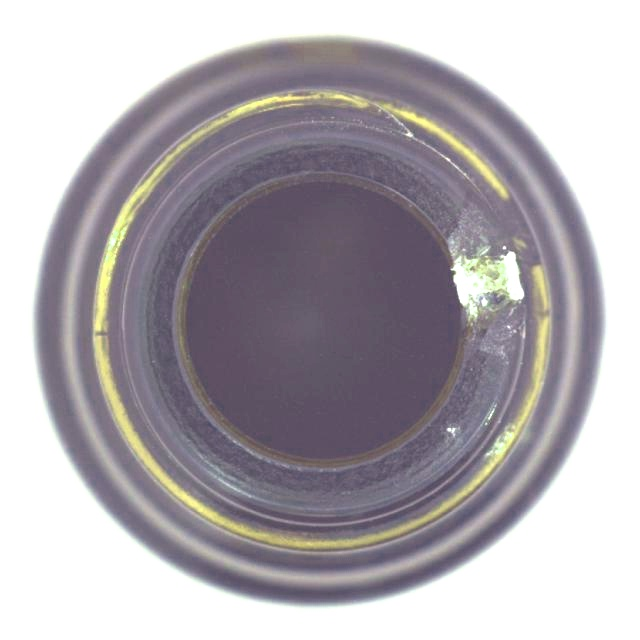bad-broken_small: (28, 29, 609, 611)
